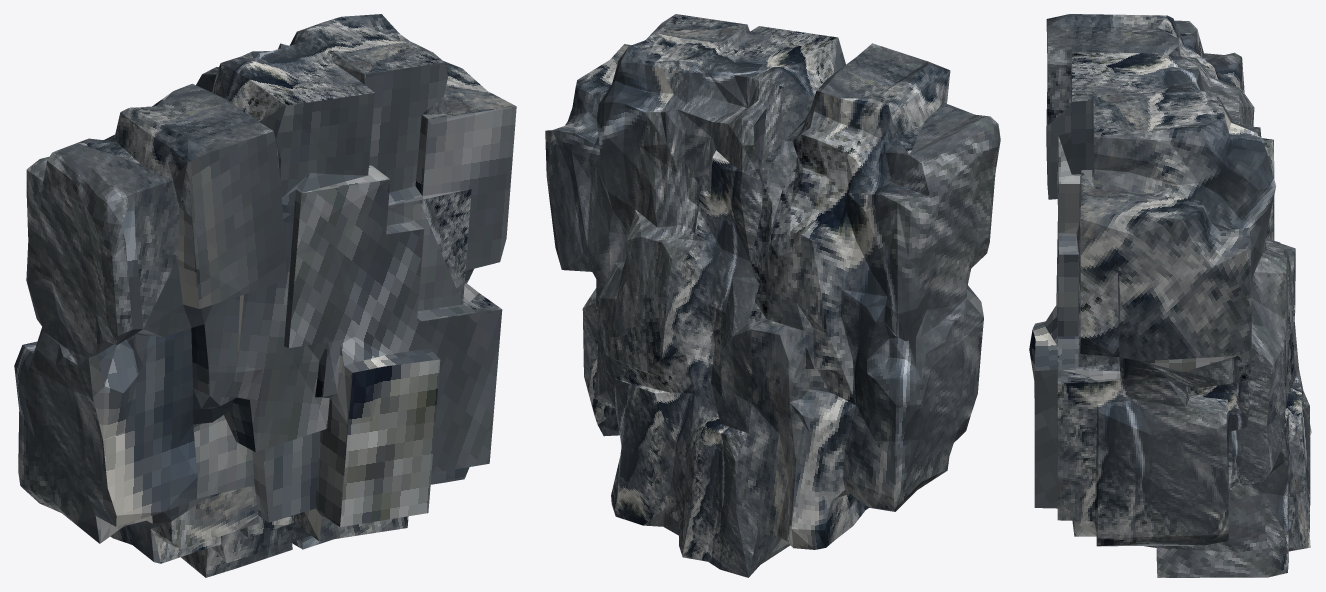
Rendered from cliffside.glb.
The picture shows the model from 3 angles, left to right: view 1: azimuth 30°, elevation 25°; view 2: azimuth 150°, elevation 25°; view 3: azimuth 270°, elevation 25°; orthographic projection. The views are drawn at different scales.
Parts seen in each view (by area): view 1: Cliff; view 2: Cliff; view 3: Cliff.
Part boxes in pixels (x1,y1,x2,y2): Cliff: (14, 14, 516, 577); Cliff: (545, 14, 1000, 577); Cliff: (1029, 14, 1311, 577).
Size of the model in its own units: 6.97 by 8.07 by 4.28.
1 material, 1 textured.
